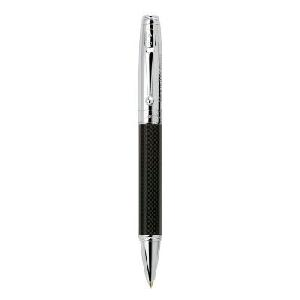pen: (135, 10, 169, 291)
